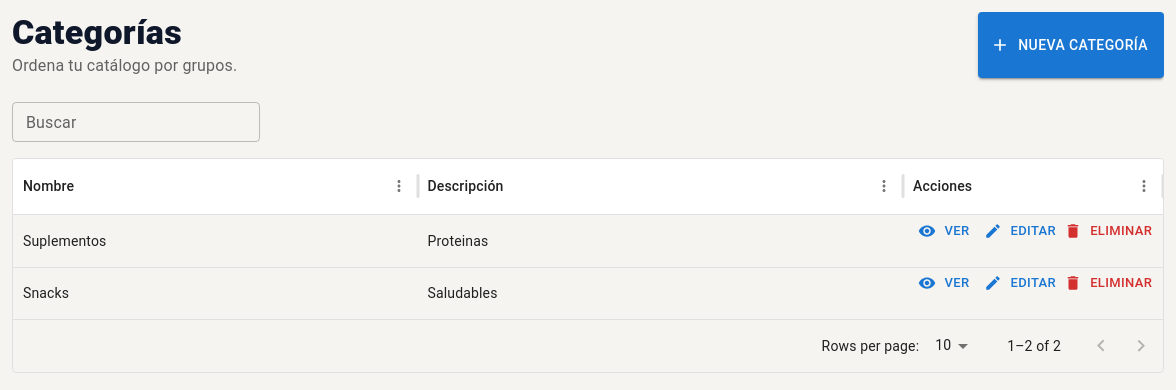
Test: CategoriesList page › renders categories from the API and filters by search
Expected: the text "Suplementos" is shown, [23,233,106,249]
Expected: the text "Snacks" is shown, [13,267,418,319]
In the field labelled "Buscar": (136, 122) [12,102,260,142], type "snack"
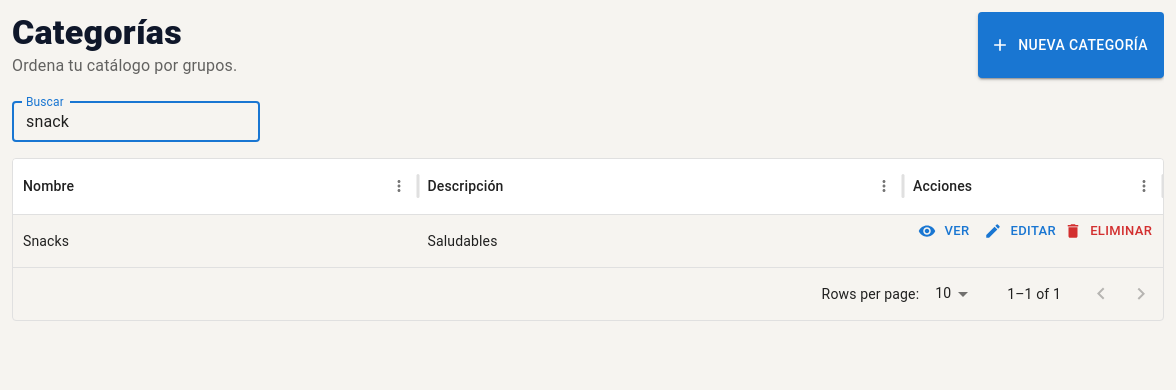
Expected: the text "Snacks" is shown, [23,233,69,249]
Expected: the text "Suplementos" is gone
